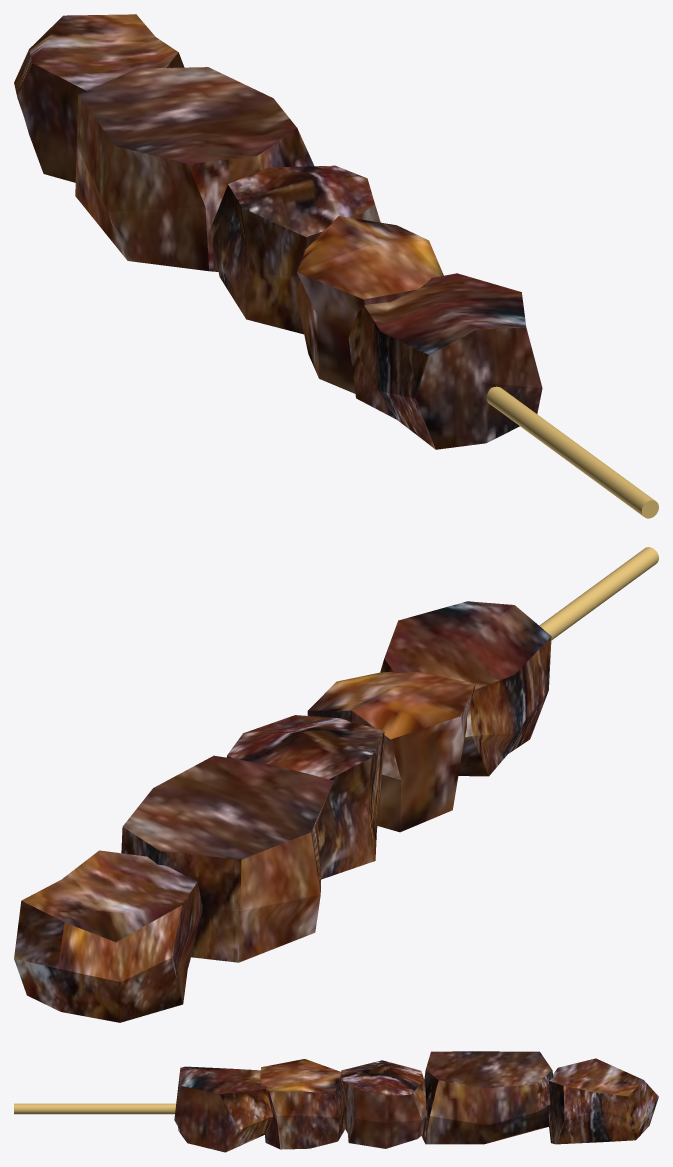
File: muttonsatay5.fbx
3 renders of one model, top to bottom at view 1: azimuth 30°, elevation 25°; view 2: azimuth 150°, elevation 25°; view 3: azimuth 270°, elevation 25°, orthographic. The views are drawn at different scales.
Parts seen in each view (by area): view 1: Msatay5piecejoined; view 2: Msatay5piecejoined; view 3: Msatay5piecejoined.
Boxes of the visible parts, bbox=[...] form: Msatay5piecejoined: bbox=[14, 14, 658, 518]; Msatay5piecejoined: bbox=[14, 547, 658, 1022]; Msatay5piecejoined: bbox=[14, 1051, 658, 1152].
Size of the model in its own units: 151 by 105 by 851.
Materials: 2 (1 with a texture image).
